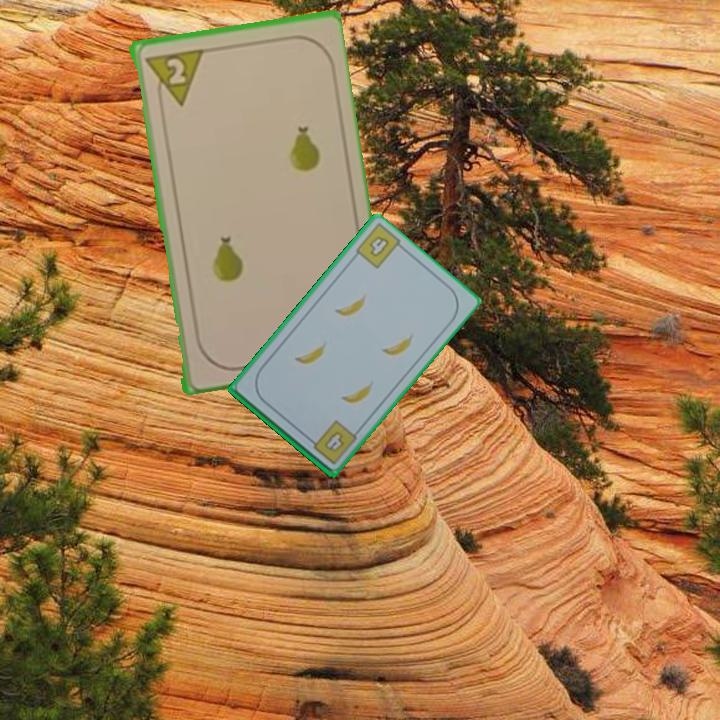2p: (140, 45, 204, 110)
4b: (304, 417, 360, 467), (365, 232, 392, 260)
